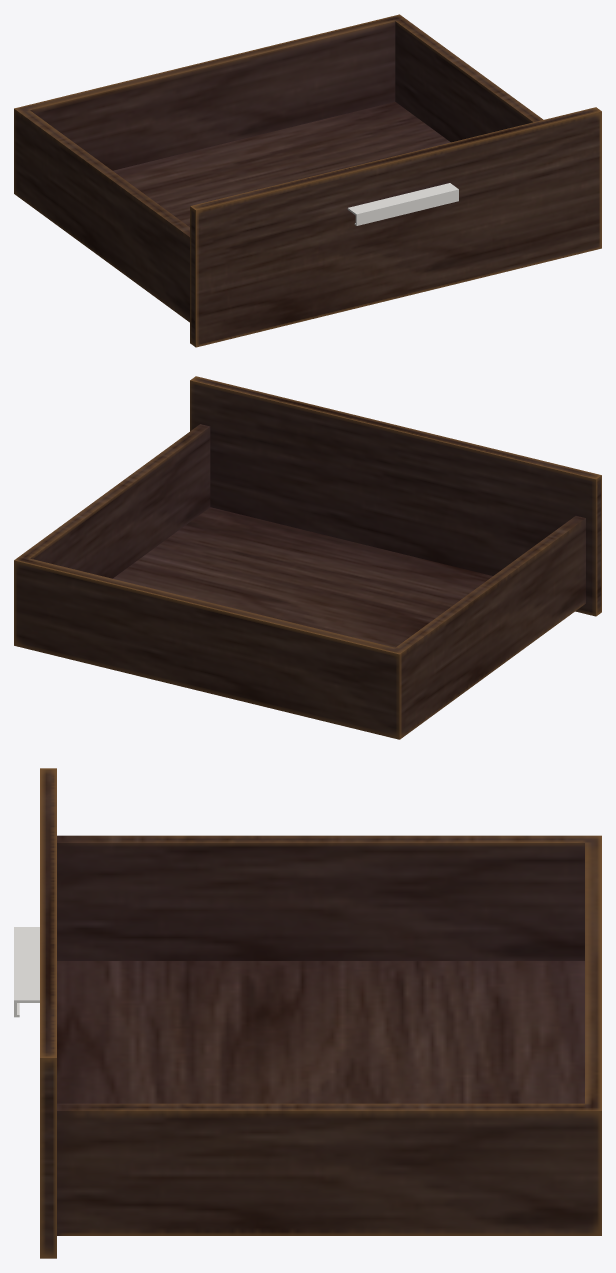
Rendered from Drawer.fbx.
3 views of the same model, one above another, from view 1: azimuth 30°, elevation 25°; view 2: azimuth 150°, elevation 25°; view 3: azimuth 270°, elevation 25° (orthographic). The views are drawn at different scales.
Parts seen in each view (by area): view 1: Drawer; view 2: Drawer; view 3: Drawer.
Boxes of the visible parts, x1,y1,x2,y2 form: Drawer: (14, 14, 601, 347); Drawer: (14, 376, 601, 739); Drawer: (14, 768, 601, 1258).
Bounding box in the file's own units: 72 × 23.23 × 61.73.
1 material, 1 textured.
